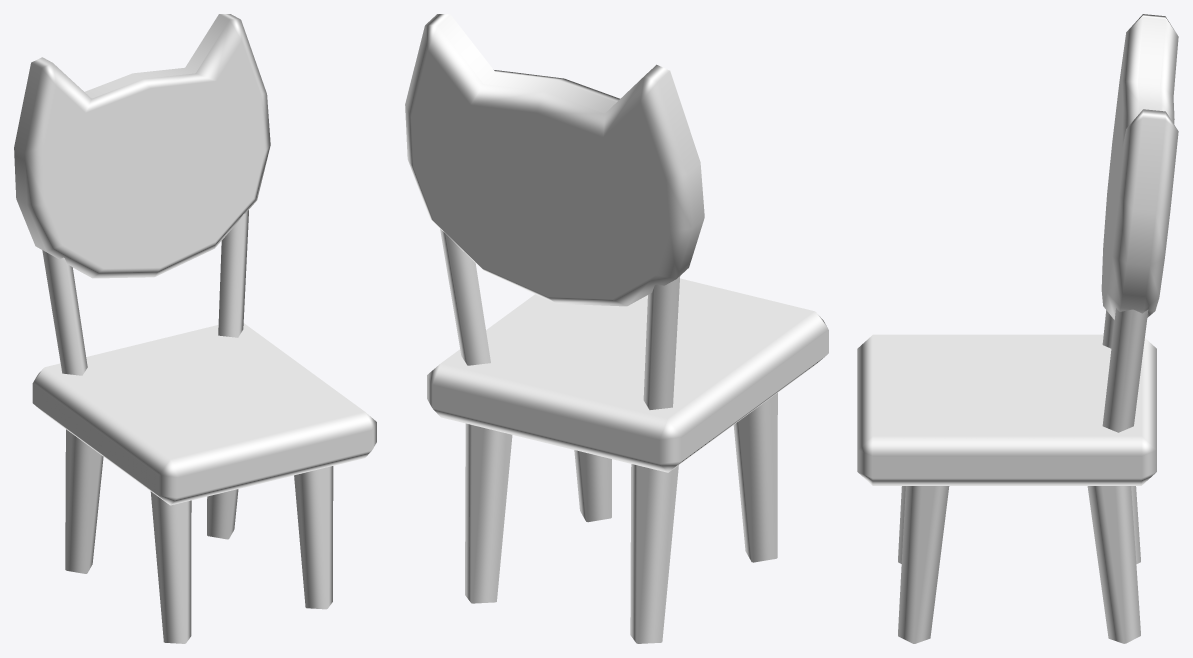
Rendered from Chair.fbx.
3 renders of one model, left to right at view 1: azimuth 30°, elevation 25°; view 2: azimuth 150°, elevation 25°; view 3: azimuth 270°, elevation 25°, orthographic. The views are drawn at different scales.
Parts seen in each view (by area): view 1: Cube.221; view 2: Cube.221; view 3: Cube.221.
Boxes of the visible parts, x1=… form: Cube.221: x1=14, y1=14, x2=376, y2=643; Cube.221: x1=405, y1=14, x2=828, y2=643; Cube.221: x1=857, y1=14, x2=1178, y2=643.
Bounding box in the file's own units: 68.94 × 136 × 73.56.
